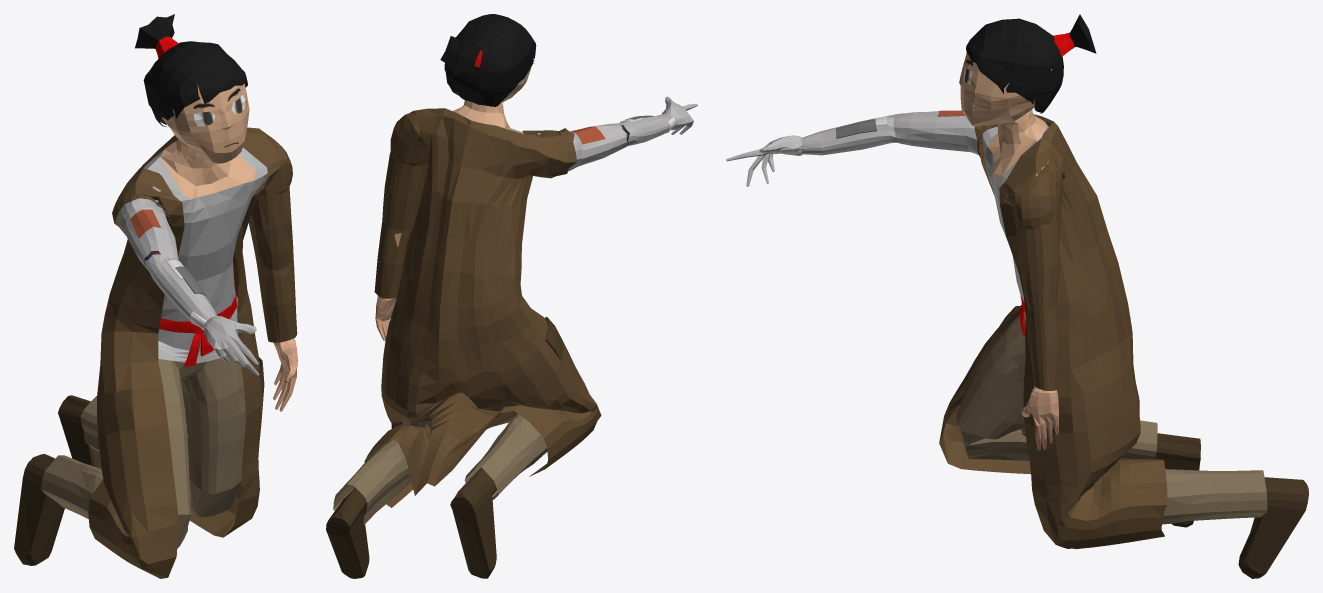
File: One_Die_000022.obj
3 renders of one model, left to right at view 1: azimuth 30°, elevation 25°; view 2: azimuth 150°, elevation 25°; view 3: azimuth 270°, elevation 25°, orthographic. The views are drawn at different scales.
Parts seen in each view (by area): view 1: Hair_Cube.004; view 2: Hair_Cube.004; view 3: Hair_Cube.004.
Part boxes in pixels (x1=…): Hair_Cube.004: x1=14, y1=14, x2=297, y2=578; Hair_Cube.004: x1=326, y1=14, x2=697, y2=578; Hair_Cube.004: x1=726, y1=14, x2=1308, y2=578.
Size of the model in its own units: 1.26 by 3.03 by 2.94.
